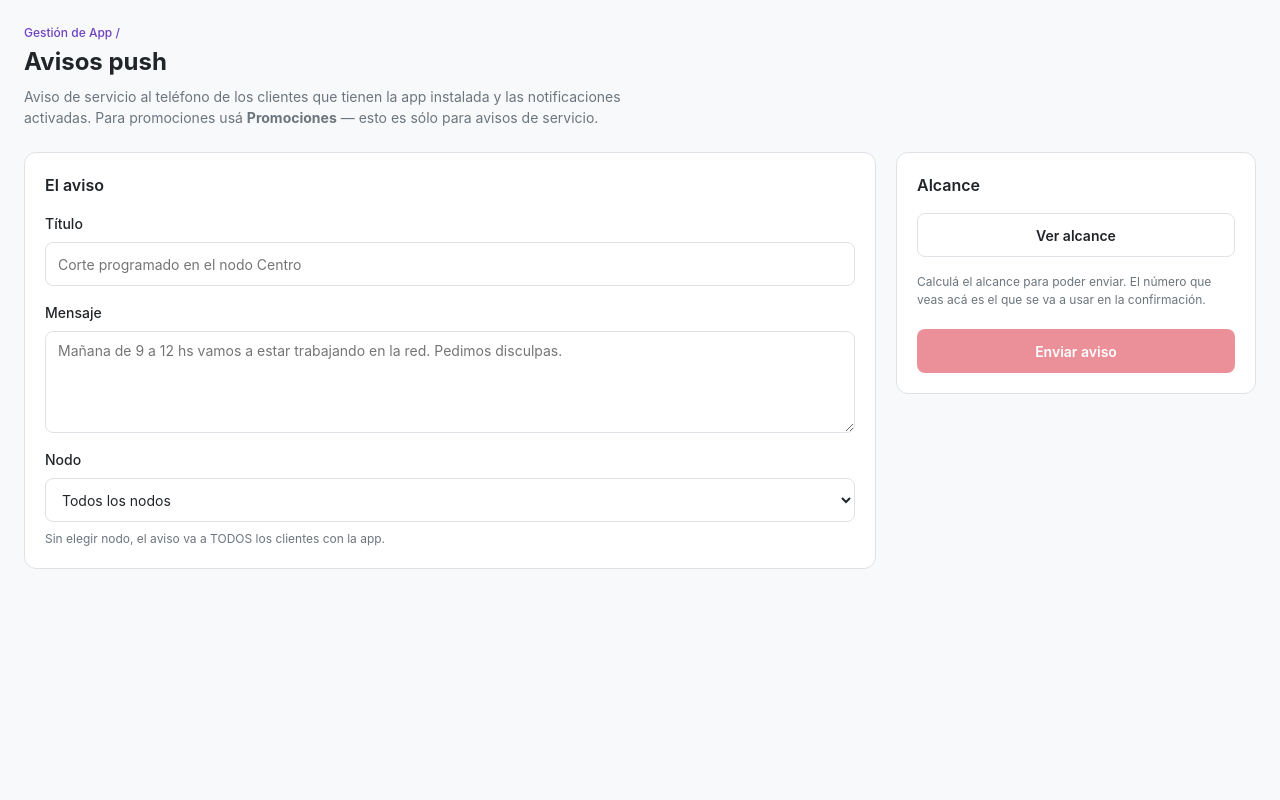
Scenario: PP-7: resultado real › muestra recipients / devices / inboxed devueltos por el BE
Type "Corte programado" into the field labelled "Título" at (450, 264), box 45,242 -> 855,286
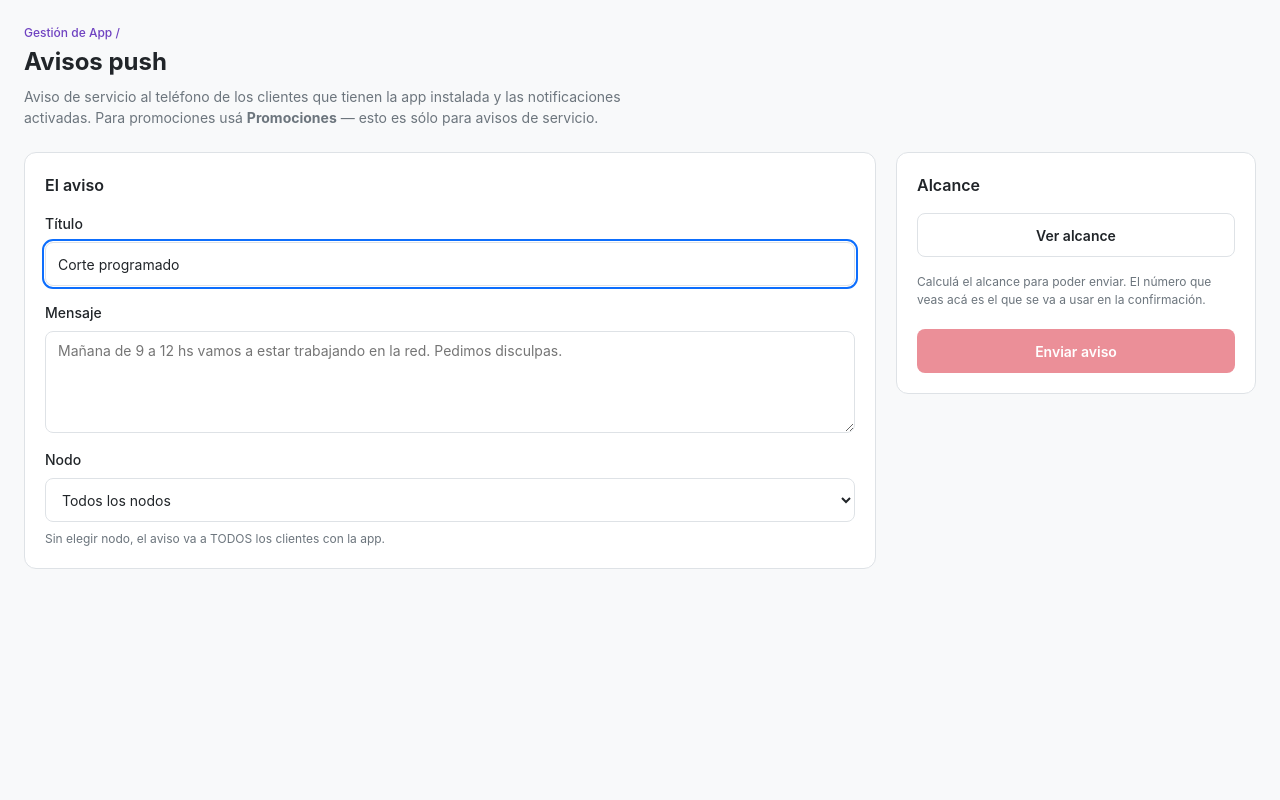
Type "Mañana de 9 a 12 hs." into the text box labelled "Mensaje" at (450, 382), box 45,331 -> 855,433
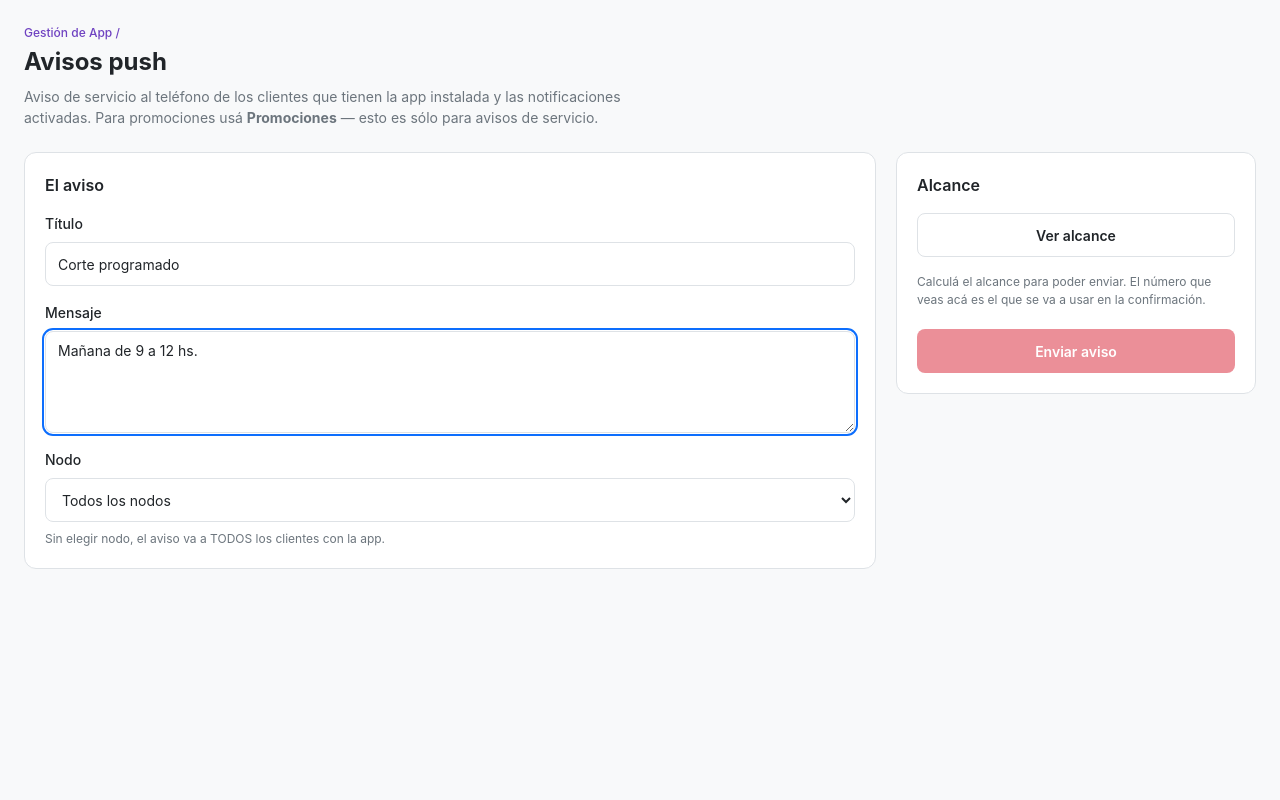
Click the button "Ver alcance" at (1076, 235), box 917,213 -> 1235,257
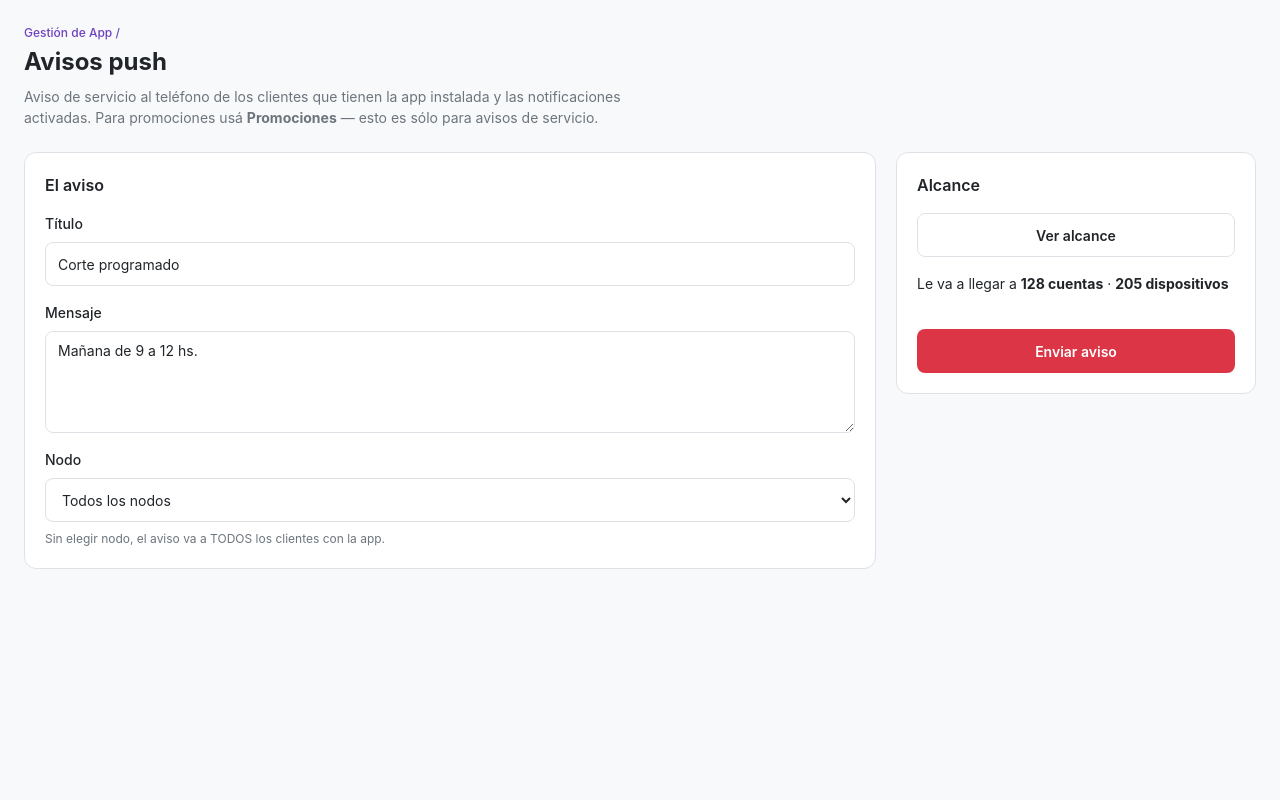
Now the button "Enviar aviso" is enabled
Click the button "Enviar aviso" at (1076, 351), box 917,329 -> 1235,373
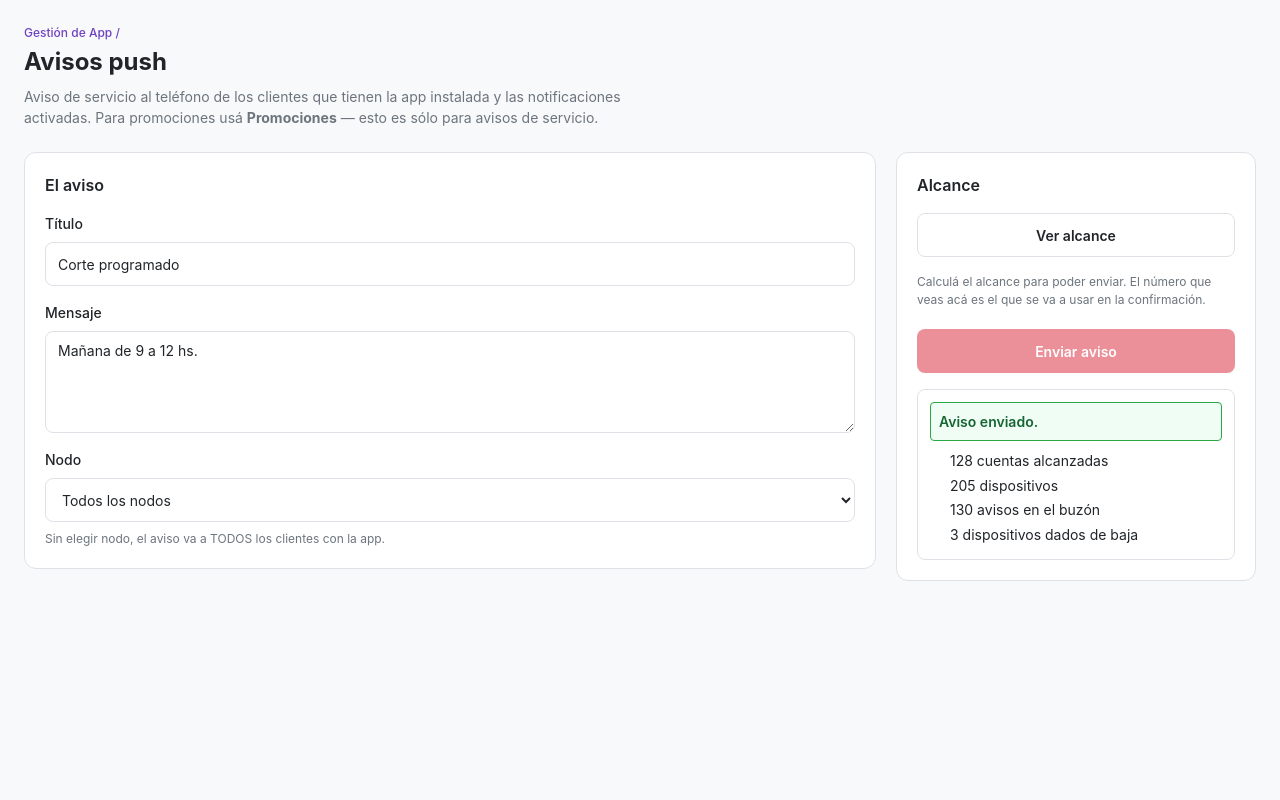
Now the message with test id "push-result" shows "128", box 950,452 -> 1108,469
Now the message with test id "push-result" shows "205", box 950,476 -> 1058,494
Now the message with test id "push-result" shows "130", box 950,501 -> 1100,518
